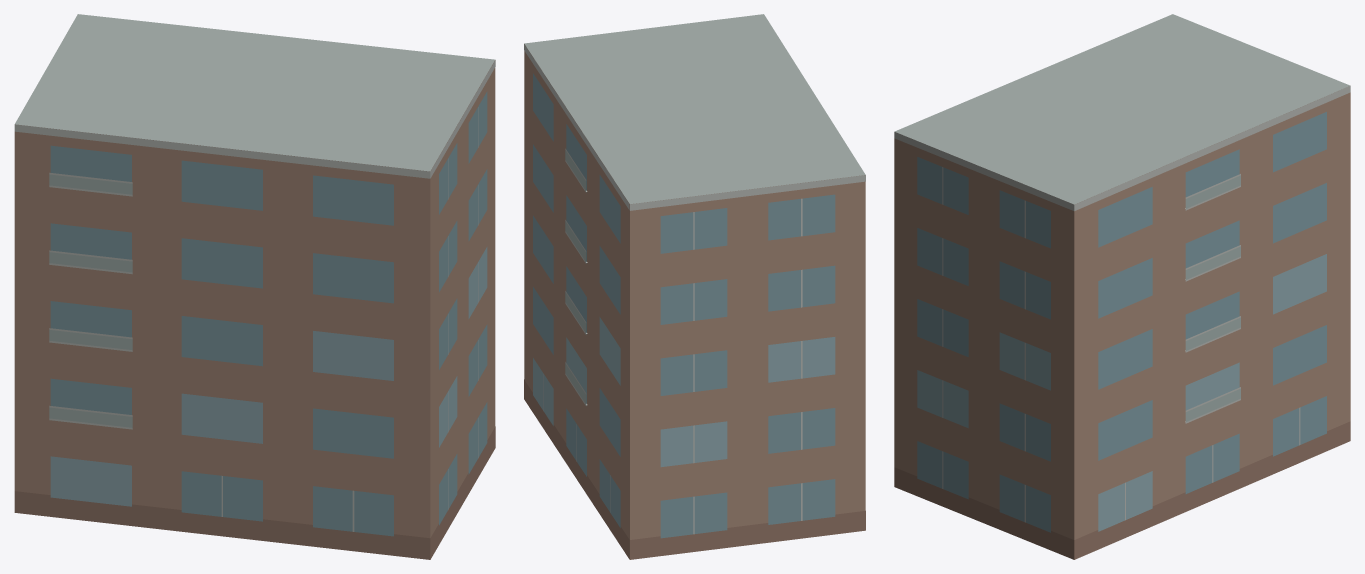
File: survey-upis-32885051.glb
The picture shows the model from 3 angles, left to right: view 1: azimuth 30°, elevation 25°; view 2: azimuth 150°, elevation 25°; view 3: azimuth 270°, elevation 25°; orthographic projection. The views are drawn at different scales.
Visible parts, largest first — view 1: survey-upis-32885051.tmp; view 2: survey-upis-32885051.tmp; view 3: survey-upis-32885051.tmp.
Boxes of the visible parts, left/top/right/bottom form: survey-upis-32885051.tmp: left=14, top=14, right=495, bottom=559; survey-upis-32885051.tmp: left=524, top=14, right=865, bottom=559; survey-upis-32885051.tmp: left=894, top=14, right=1350, bottom=559.
Bounding box in the file's own units: 14.96 × 13 × 15.14.
